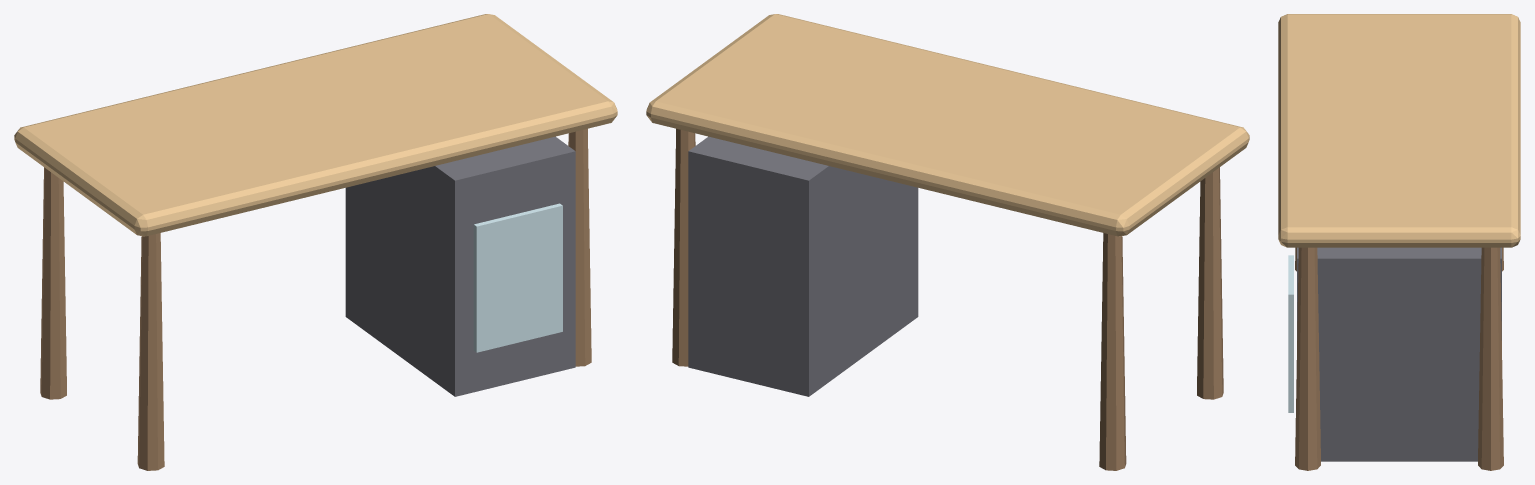
File: cozy-home-interiors-gaming-desk-e0ad6d72.glb
The picture shows the model from 3 angles, left to right: view 1: azimuth 30°, elevation 25°; view 2: azimuth 150°, elevation 25°; view 3: azimuth 270°, elevation 25°; orthographic projection. The views are drawn at different scales.
Visible parts, largest first — view 1: gaming-desk; view 2: gaming-desk; view 3: gaming-desk.
Boxes of the visible parts, <box> form: gaming-desk: <box>14,14,617,470</box>; gaming-desk: <box>646,14,1249,470</box>; gaming-desk: <box>1278,14,1520,470</box>.
Bounding box in the file's own units: 1.4 × 0.73 × 0.65.
